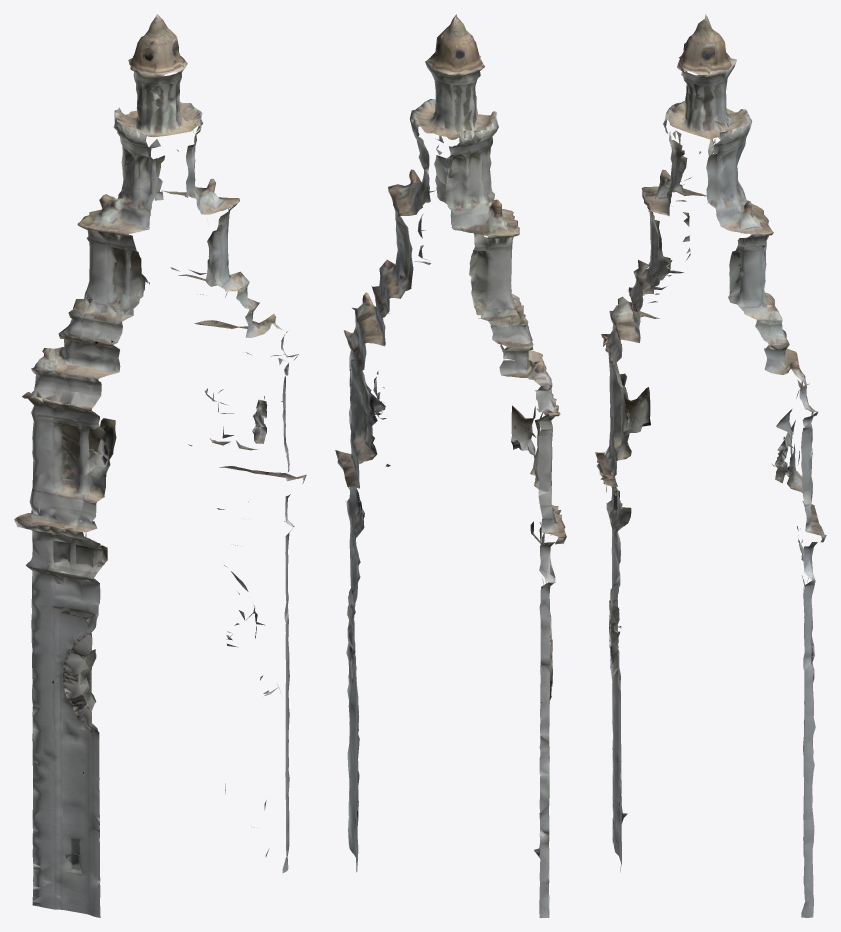
The picture shows the model from 3 angles, left to right: view 1: azimuth 30°, elevation 25°; view 2: azimuth 150°, elevation 25°; view 3: azimuth 330°, elevation 25°; orthographic projection.
Bounding box in the file's own units: 16.06 × 51.01 × 3.41.
Materials: 1 (1 with a texture image).
